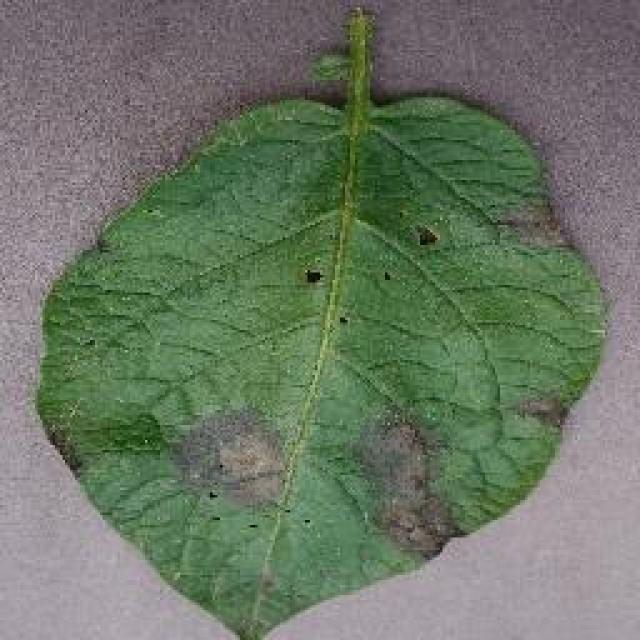Potato___Late_blight: (31, 4, 618, 638)
